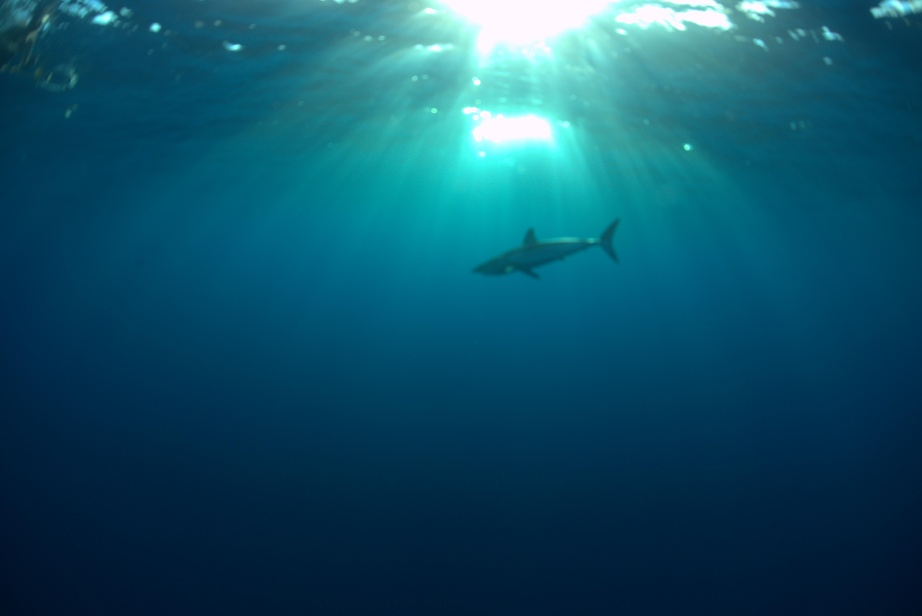Mako: (451, 206, 633, 299)
